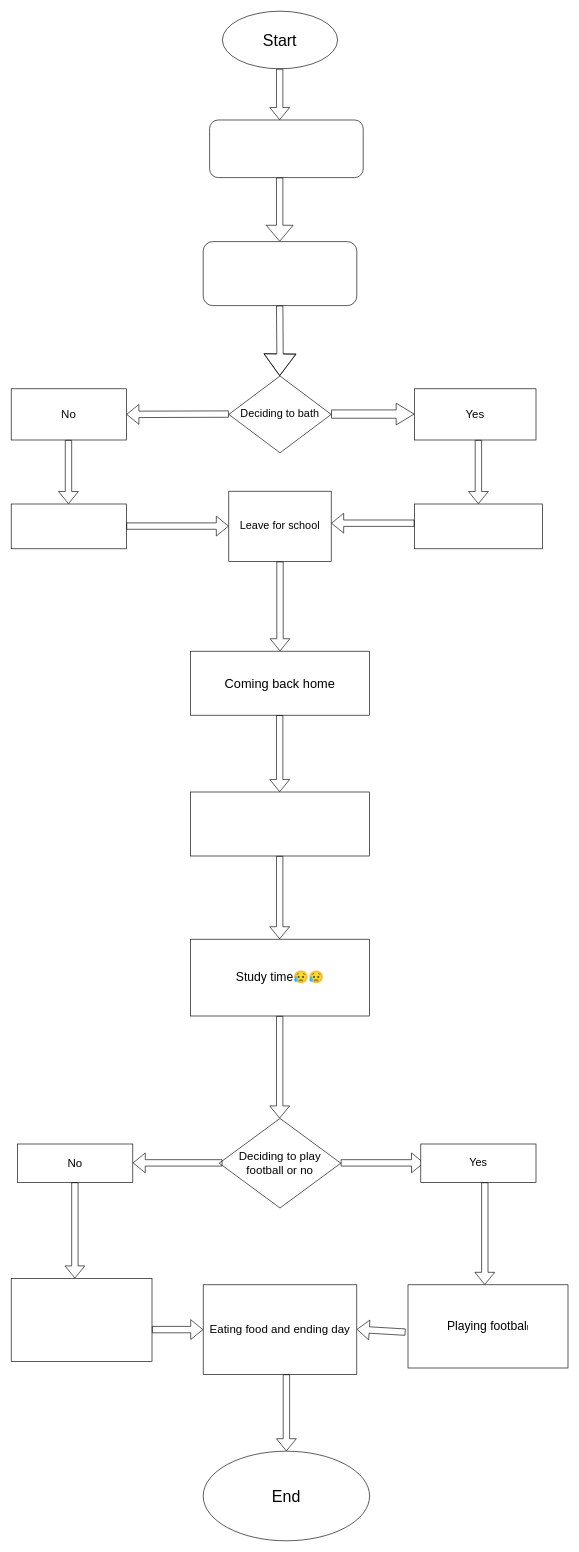
Image size: 579x1552. Some labels were removed from this diagram. Each missing label, with the centre of its shape:
"Bath and change clothes" belongs at pixel 478 526.
"Enjoying free time" belongs at pixel 280 823.
"Get fresh and pray" belongs at pixel 280 273.
"Simply change clothes" belongs at pixel 68 526.
"Sitting free" belongs at pixel 81 1320.
"Wake up" belongs at pixel 286 148.
